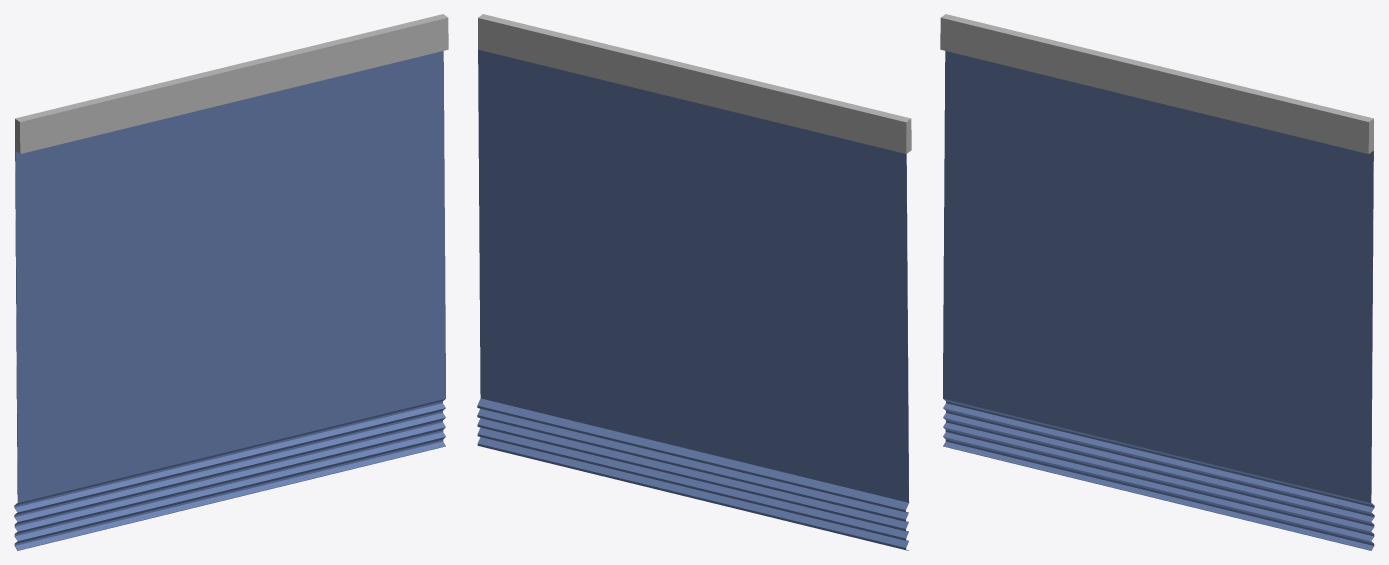
3 views of the same model, side by side, from view 1: azimuth 30°, elevation 25°; view 2: azimuth 150°, elevation 25°; view 3: azimuth 330°, elevation 25° (orthographic).
Parts seen in each view (by area): view 1: polySurface1; view 2: polySurface1; view 3: polySurface1.
Part boxes in pixels (x1=…): polySurface1: x1=14, y1=14, x2=448, y2=550; polySurface1: x1=477, y1=14, x2=911, y2=550; polySurface1: x1=940, y1=14, x2=1374, y2=550.
Size of the model in its own units: 48 by 46.11 by 1.14.
